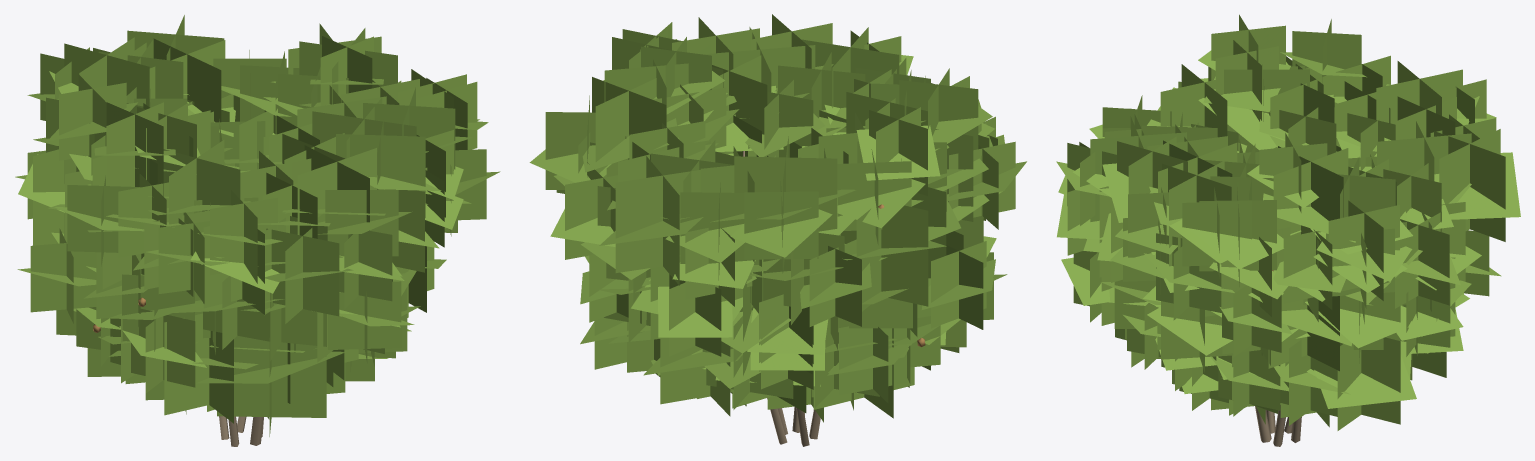
The model's file is noisetier_1_f3_jeu.glb.
The picture shows the model from 3 angles, left to right: view 1: azimuth 30°, elevation 25°; view 2: azimuth 150°, elevation 25°; view 3: azimuth 270°, elevation 25°; orthographic projection. The views are drawn at different scales.
Parts seen in each view (by area): view 1: Noisetier_T1_f3_Leger; view 2: Noisetier_T1_f3_Leger; view 3: Noisetier_T1_f3_Leger.
Part boxes in pixels (box(x1,y1,x2,y2)): Noisetier_T1_f3_Leger: box(15, 15, 500, 446); Noisetier_T1_f3_Leger: box(529, 14, 1026, 446); Noisetier_T1_f3_Leger: box(1056, 14, 1520, 446).
Size of the model in its own units: 3.52 by 2.91 by 3.49.
